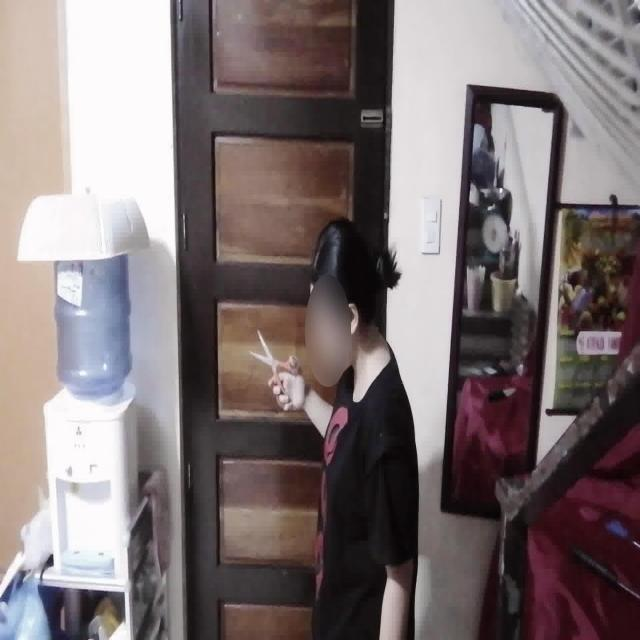scissor: (249, 328, 299, 410)
